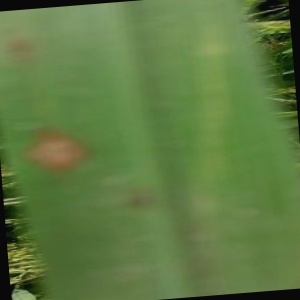Brown_Spot: (9, 119, 97, 185)
